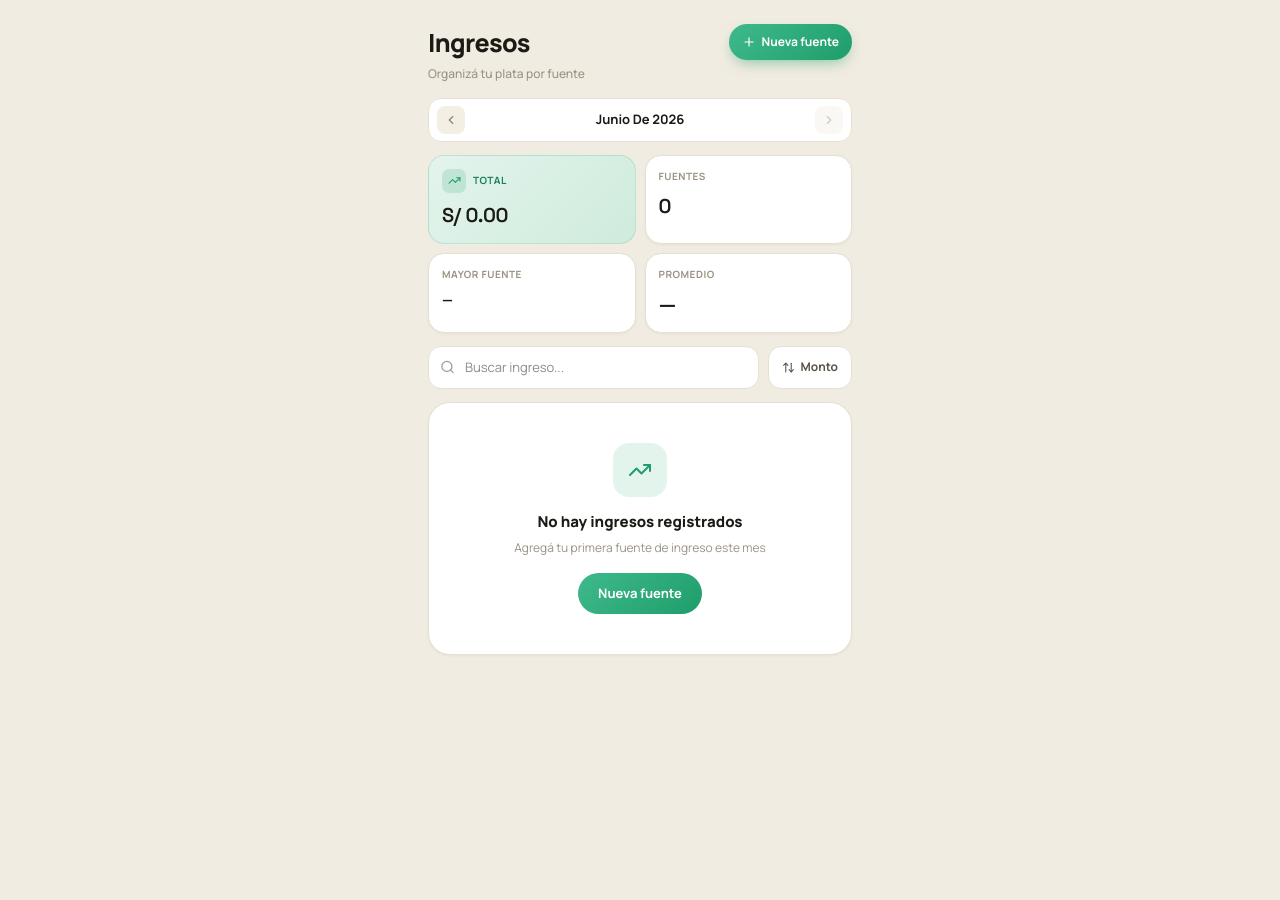
should IngresosView › should open modal and show form
This screenshot has width=1280, height=900.
Click the button with test id "open-modal-button": (790, 42) [729,24,852,60]
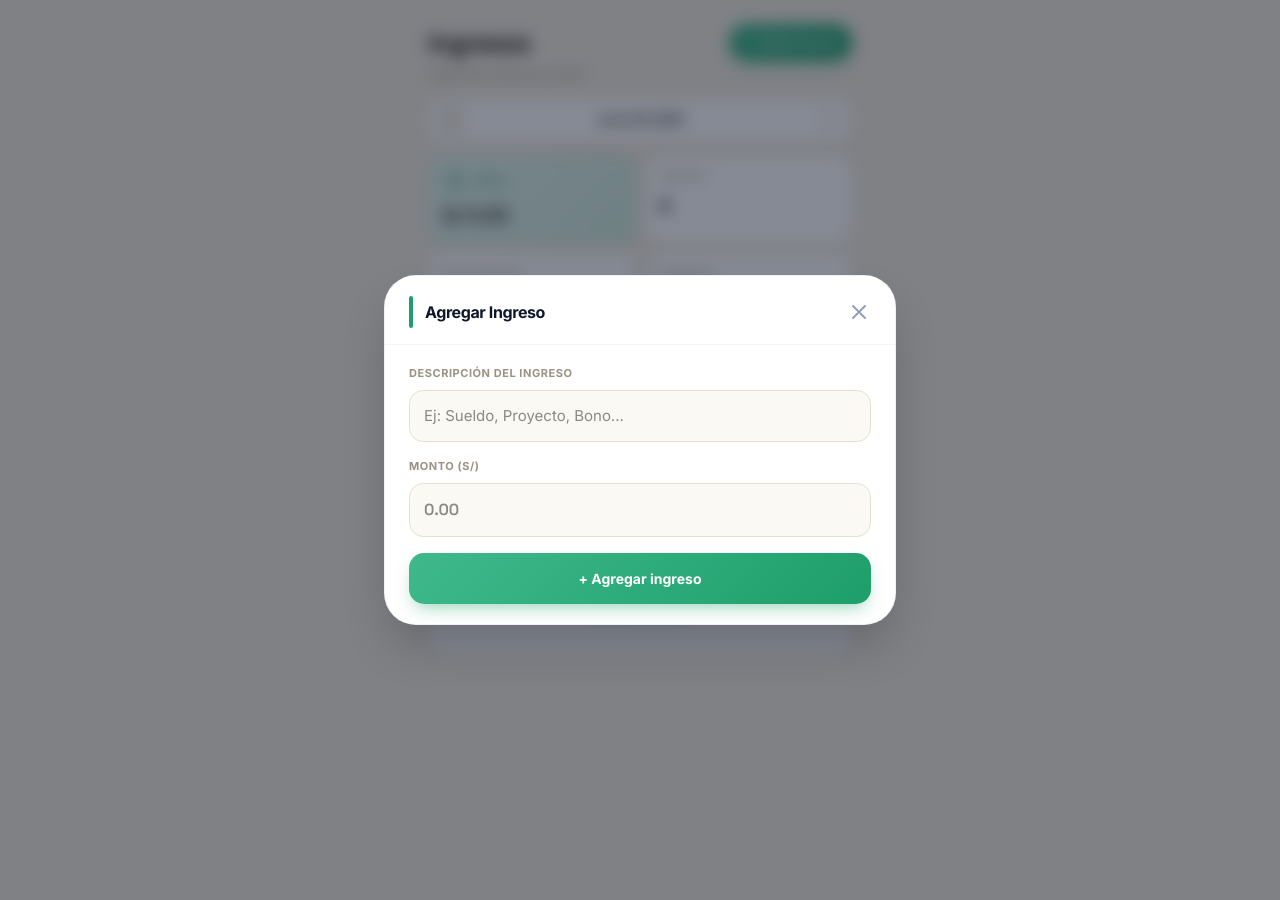
Expected: the element with test id "app-modal" is shown
Expected: the form with test id "ingresos-form" is shown, [409,365,871,604]
